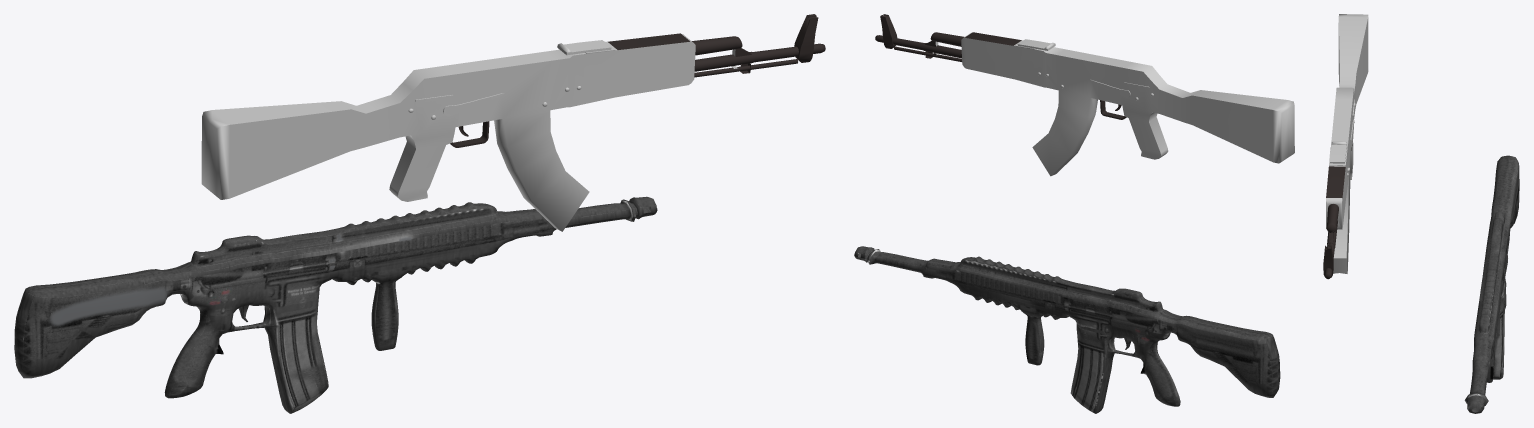
File: ak47 and m416.fbx
3 renders of one model, left to right at view 1: azimuth 30°, elevation 25°; view 2: azimuth 150°, elevation 25°; view 3: azimuth 270°, elevation 25°, orthographic. The views are drawn at different scales.
Visible parts, largest first — view 1: AK_47, M416; view 2: AK_47, M416; view 3: AK_47, M416.
Boxes of the visible parts, x1,y1,x2,y2 form: AK_47: (201, 14, 825, 231); M416: (14, 196, 657, 413); AK_47: (875, 14, 1294, 176); M416: (854, 246, 1280, 413); AK_47: (1323, 14, 1368, 279); M416: (1464, 155, 1519, 413).
Size of the model in its own units: 519 by 291 by 172.
